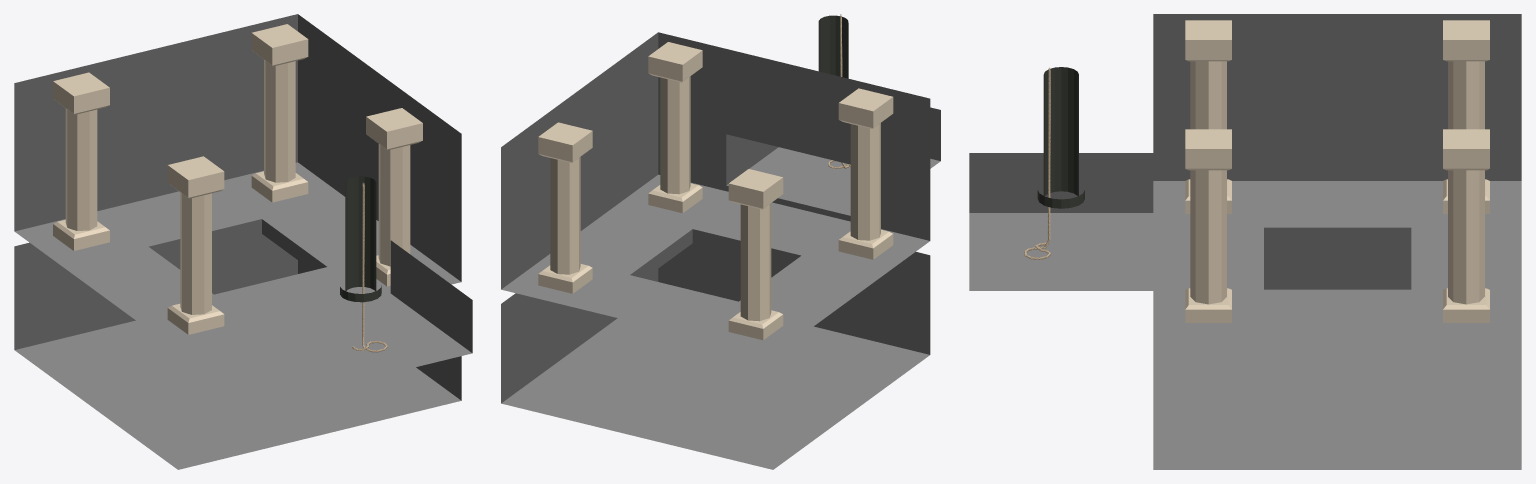
Rendered from starting_room.gltf.
3 renders of one model, left to right at view 1: azimuth 30°, elevation 25°; view 2: azimuth 150°, elevation 25°; view 3: azimuth 270°, elevation 25°, orthographic. The views are drawn at different scales.
Parts seen in each view (by area): view 1: LevelGeometry, Pillar, Well, Rope; view 2: LevelGeometry, Pillar, Well; view 3: LevelGeometry, Pillar, Well, Rope.
Boxes of the visible parts, <box> form: LevelGeometry: <box>14,14,472,469</box>; Pillar: <box>53,24,422,334</box>; Well: <box>340,176,381,302</box>; Rope: <box>354,182,387,352</box>; LevelGeometry: <box>501,32,940,469</box>; Pillar: <box>538,42,893,340</box>; Well: <box>818,15,848,78</box>; LevelGeometry: <box>969,14,1521,469</box>; Pillar: <box>1185,20,1489,322</box>; Well: <box>1037,67,1084,208</box>; Rope: <box>1024,67,1050,259</box>.
Size of the model in its own units: 20 by 19.36 by 30.
